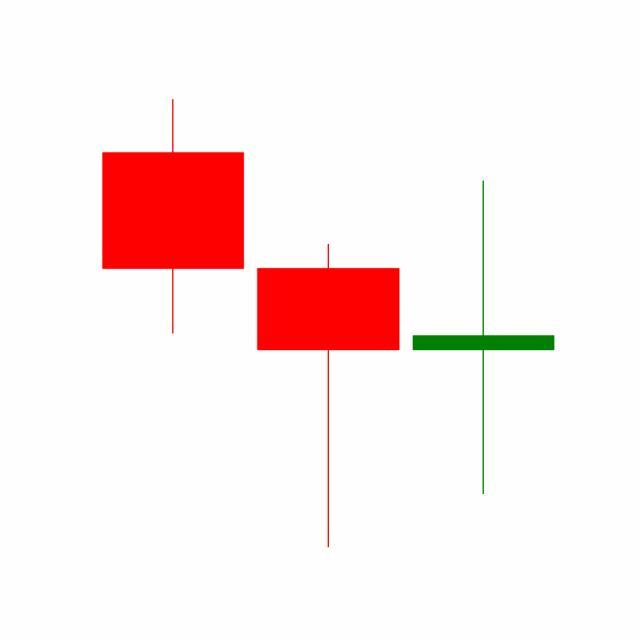Hammer: (250, 241, 407, 552)
